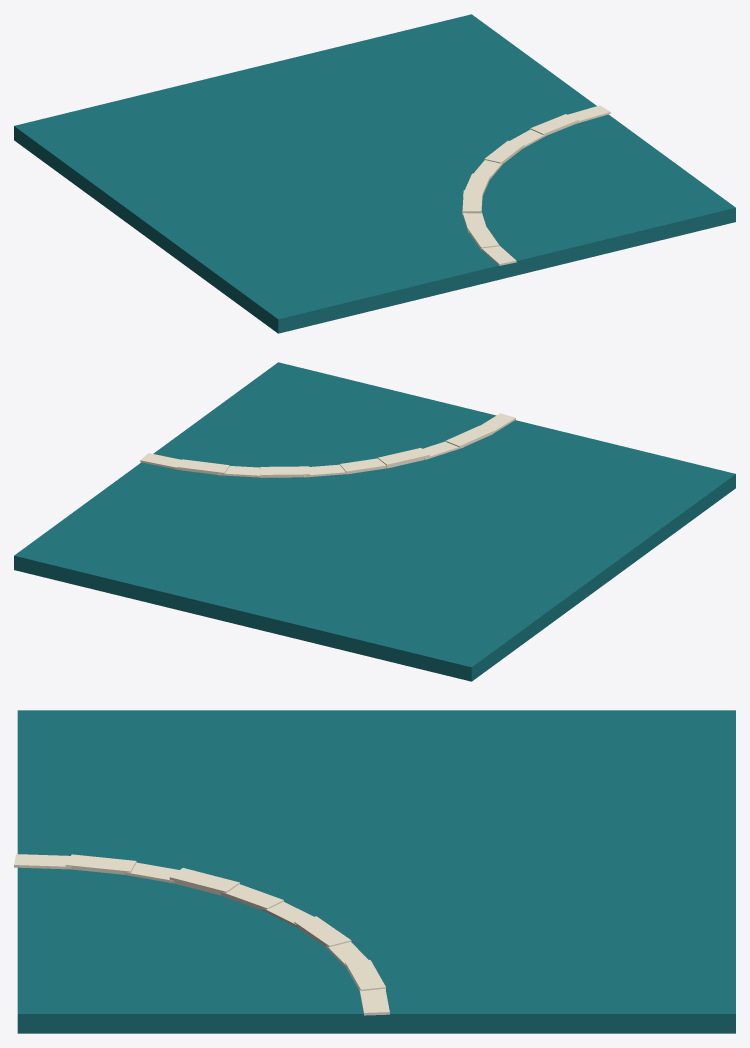
Rendered from court_tile_arc.glb.
3 renders of one model, top to bottom at view 1: azimuth 30°, elevation 25°; view 2: azimuth 150°, elevation 25°; view 3: azimuth 270°, elevation 25°, orthographic. The views are drawn at different scales.
Visible parts, largest first — view 1: court_tile_arc; view 2: court_tile_arc; view 3: court_tile_arc.
Part boxes in pixels (box(x1,y1,x2,y2)): court_tile_arc: box(14, 14, 735, 333); court_tile_arc: box(14, 362, 735, 681); court_tile_arc: box(14, 710, 735, 1033).
Size of the model in its own units: 2.01 by 0.076 by 2.01.
